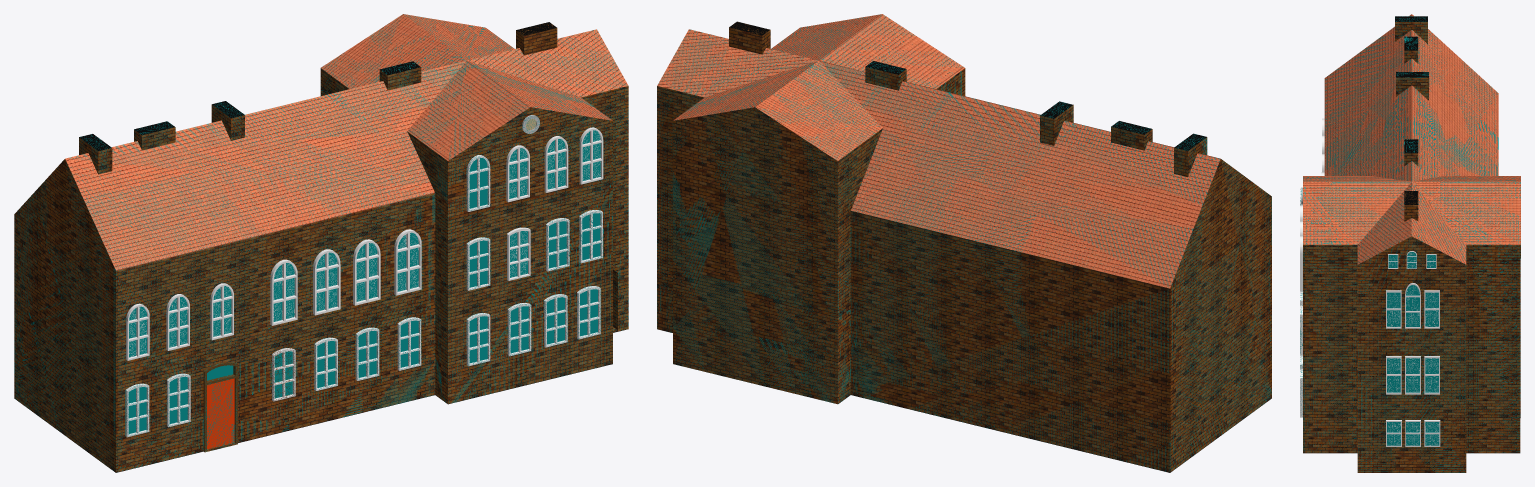
Rendered from school.dae.
3 renders of one model, left to right at view 1: azimuth 30°, elevation 25°; view 2: azimuth 150°, elevation 25°; view 3: azimuth 270°, elevation 25°, orthographic. The views are drawn at different scales.
Visible parts, largest first — view 1: group_0 (×13); view 2: group_0 (×7); view 3: group_0 (×4).
Part boxes in pixels (left/top/right/bottom): group_0 (×13): left=14, top=14, right=628, bottom=472; group_0 (×7): left=657, top=14, right=1271, bottom=472; group_0 (×4): left=1303, top=14, right=1520, bottom=472.
Size of the model in its own units: 573 by 240 by 299.
